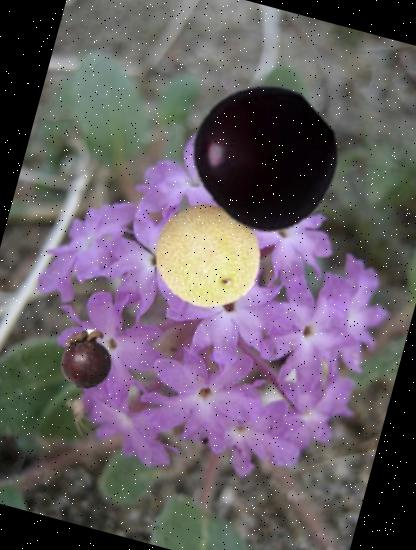Cantaloupe: (142, 192, 274, 323)
Cherry: (176, 66, 357, 248)
Mangostan: (51, 323, 122, 395)
